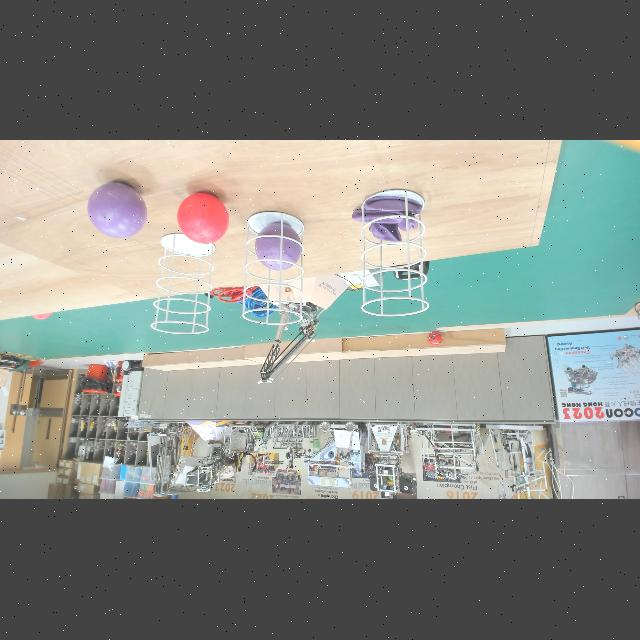P: (85, 178, 148, 240), (254, 220, 304, 274)
R: (176, 189, 230, 245)
S: (360, 188, 430, 318), (241, 212, 305, 326), (148, 232, 216, 336)
